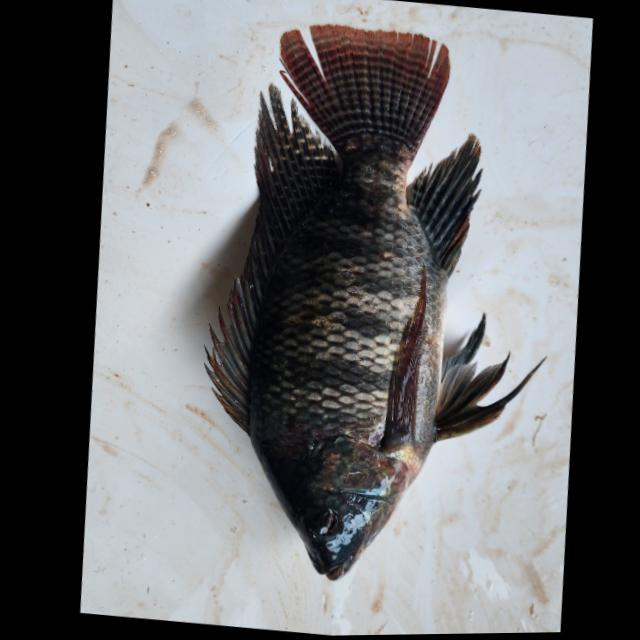Tilapia: (164, 10, 592, 605)
